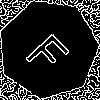F: (23, 24, 78, 79)
